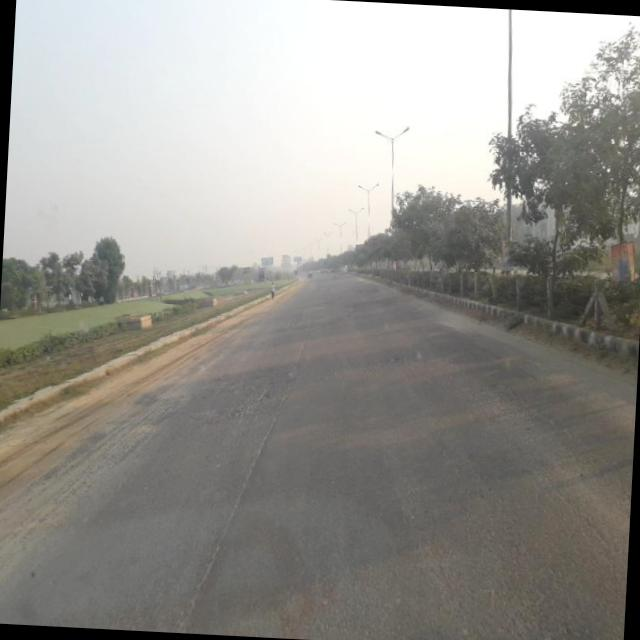crack: (323, 327, 622, 637), (188, 360, 282, 437)
pothole: (177, 327, 311, 631)
